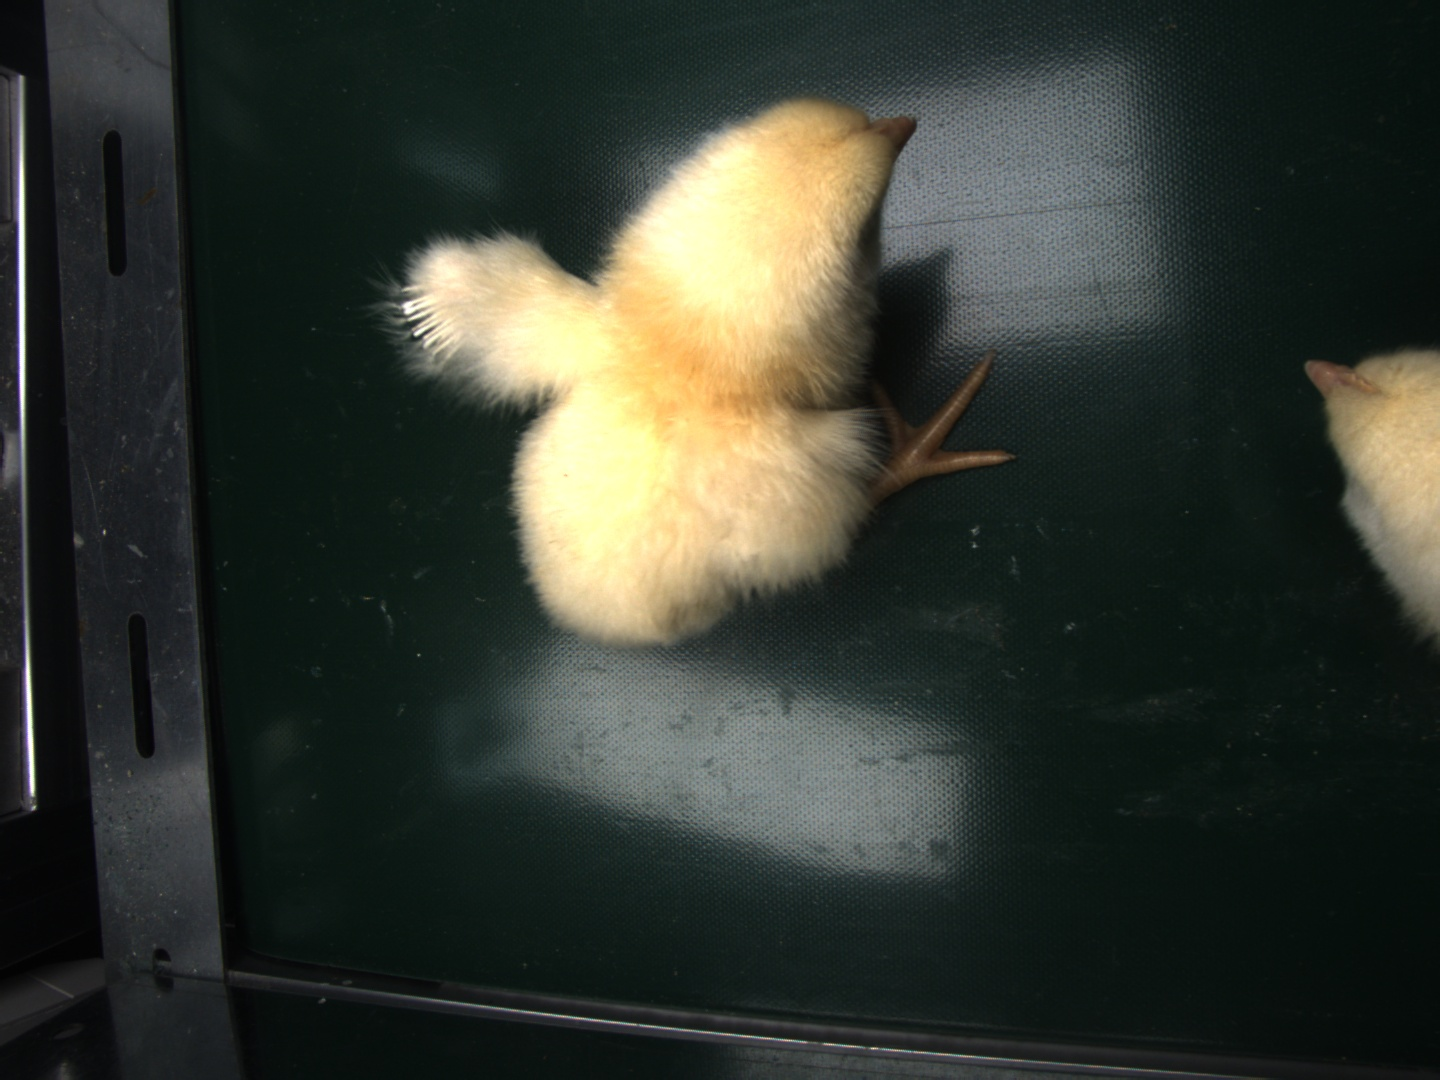male: (403, 282, 463, 357)
